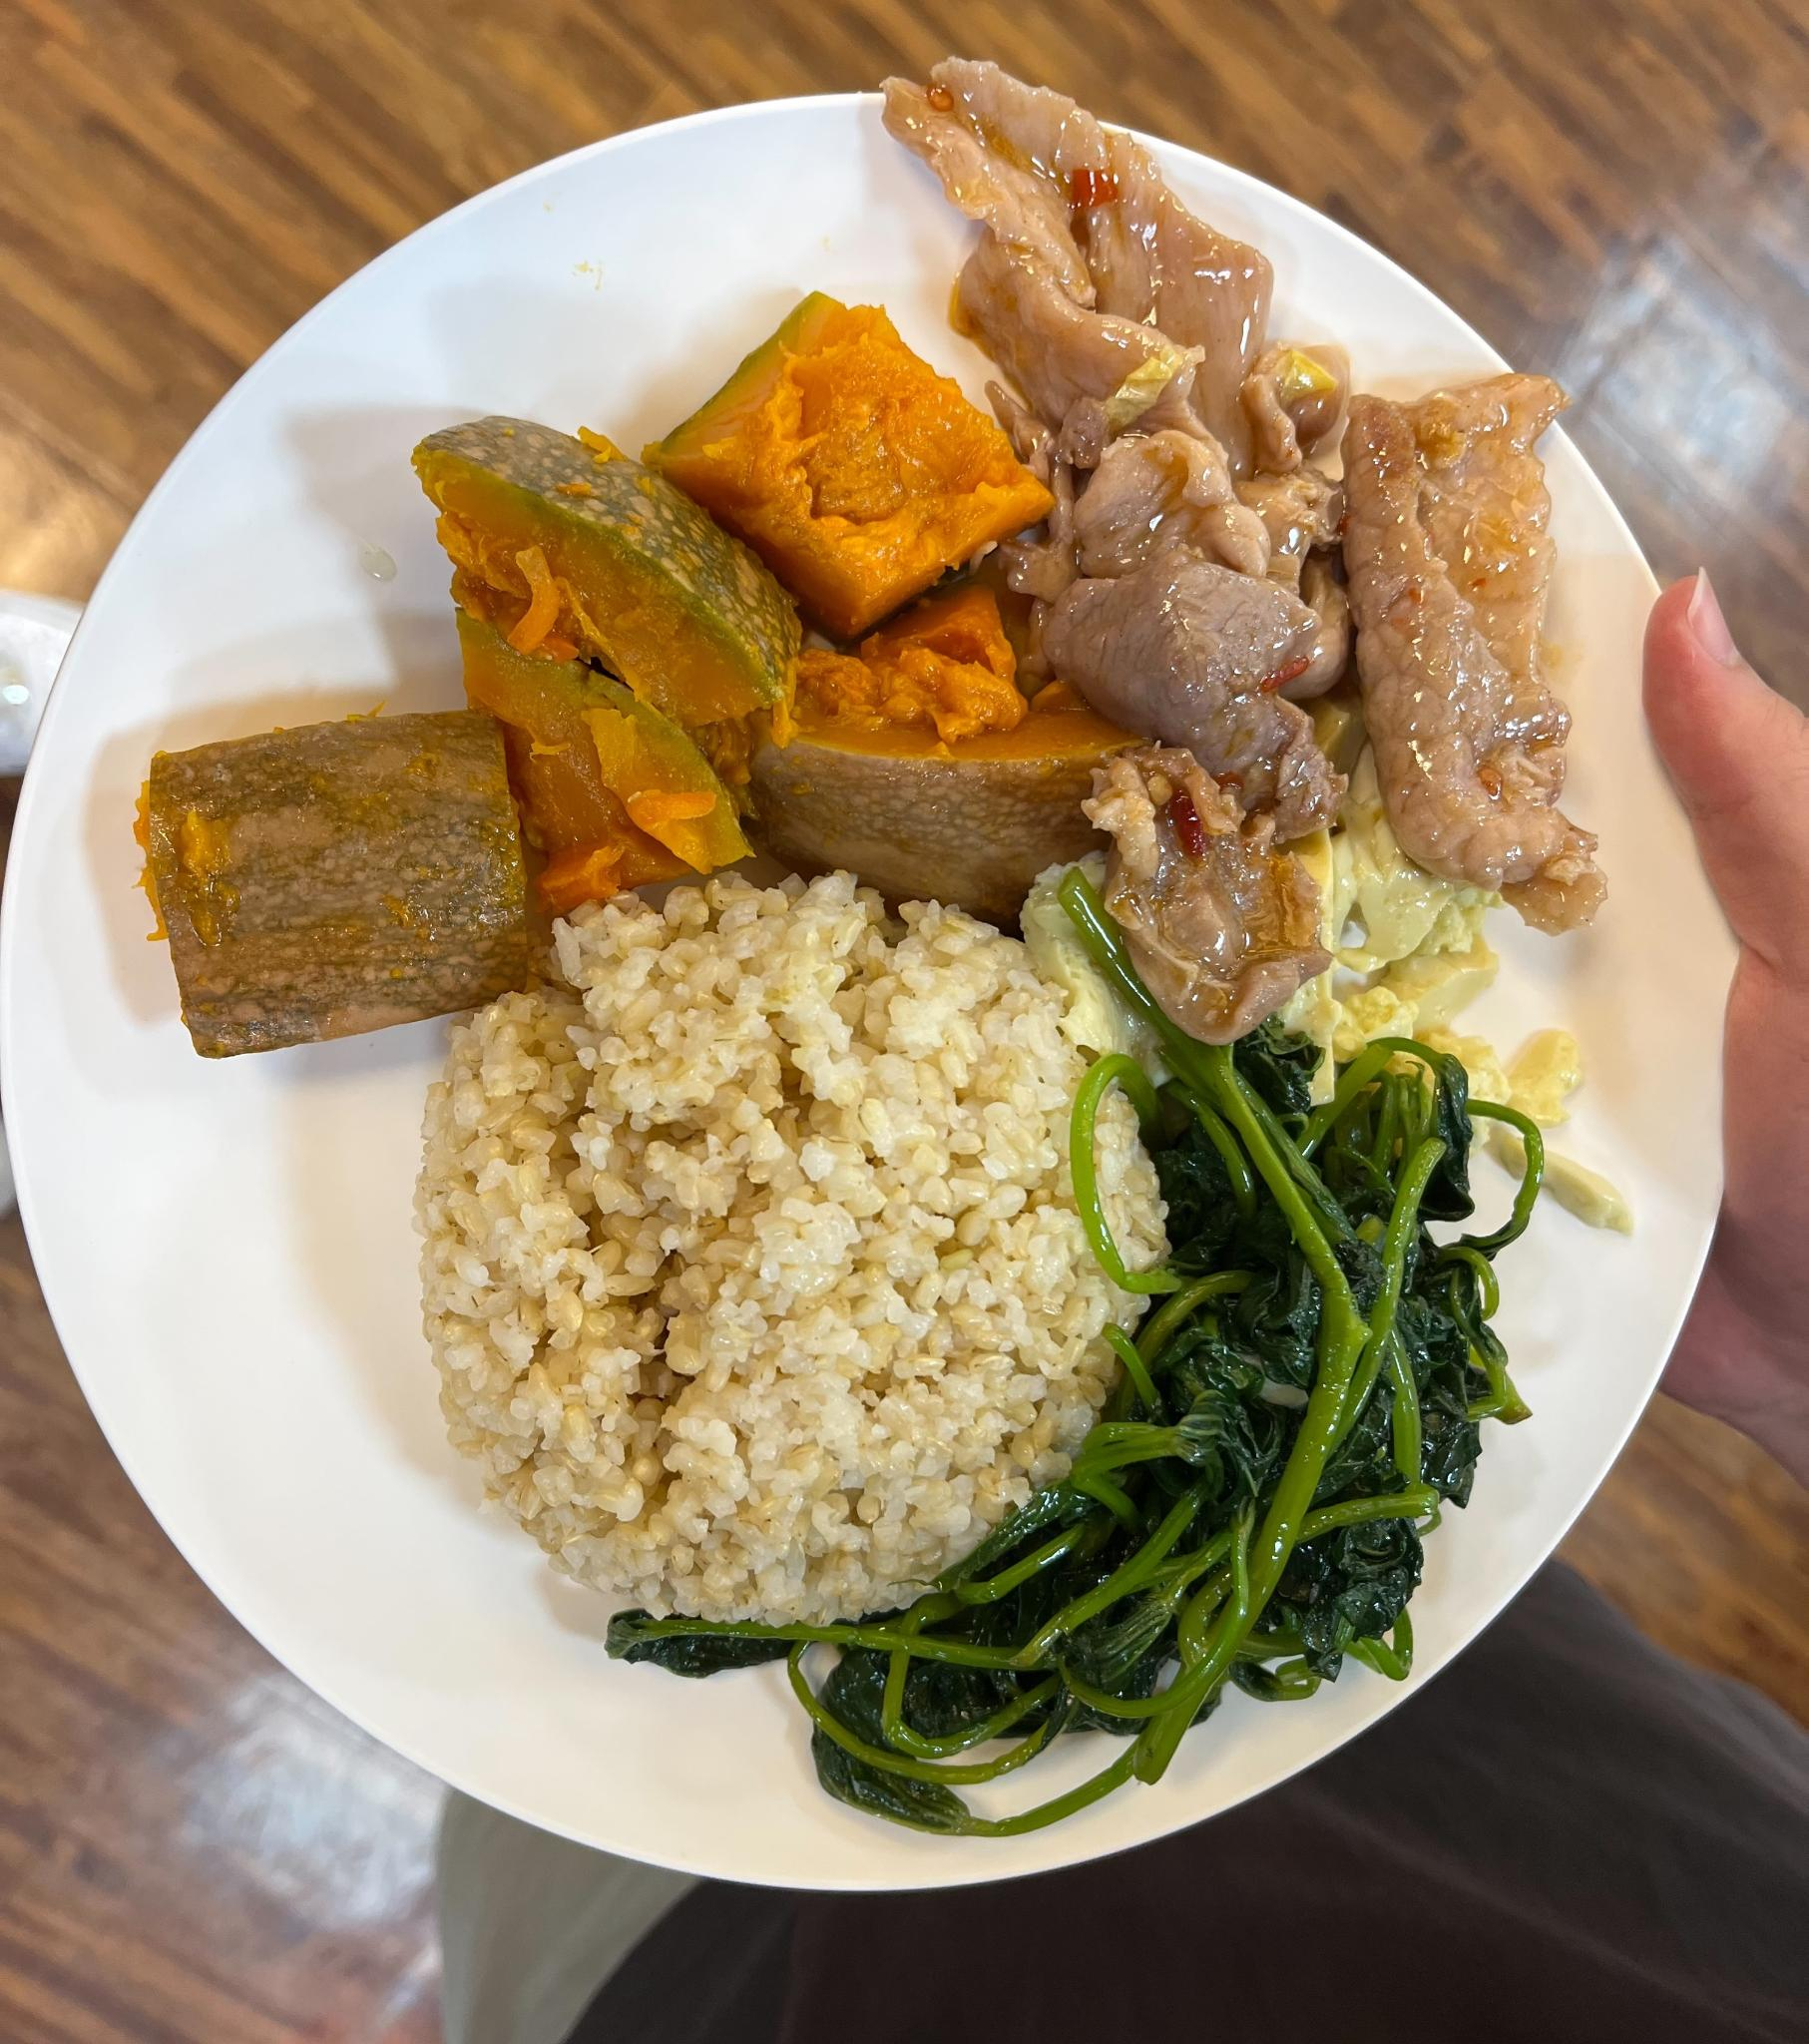big fried chicken leg: (8, 50, 1764, 1904)
box: (401, 864, 1179, 1661)
braised fish fillet: (133, 279, 1109, 1036), (793, 1020, 1569, 1842)
braised pork: (875, 67, 1639, 957)
